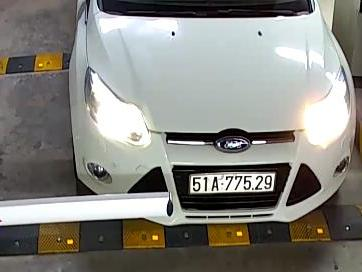car: (188, 171, 275, 193)
